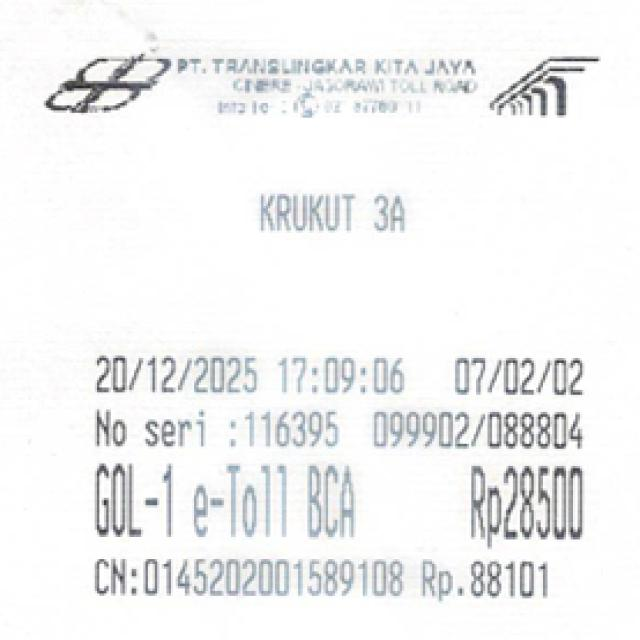date: (89, 350, 407, 402)
store: (164, 49, 489, 94)
total: (463, 460, 593, 543)
